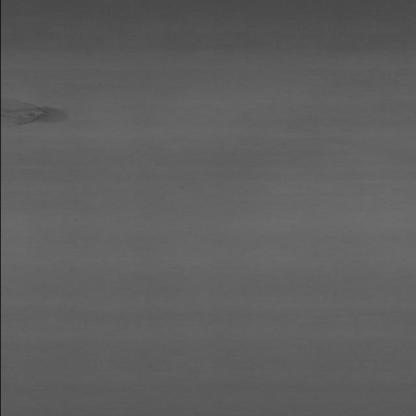water_spot: (0, 98, 73, 135)
